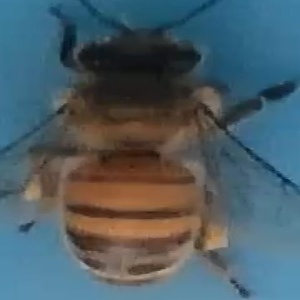bee: (3, 1, 292, 294)
